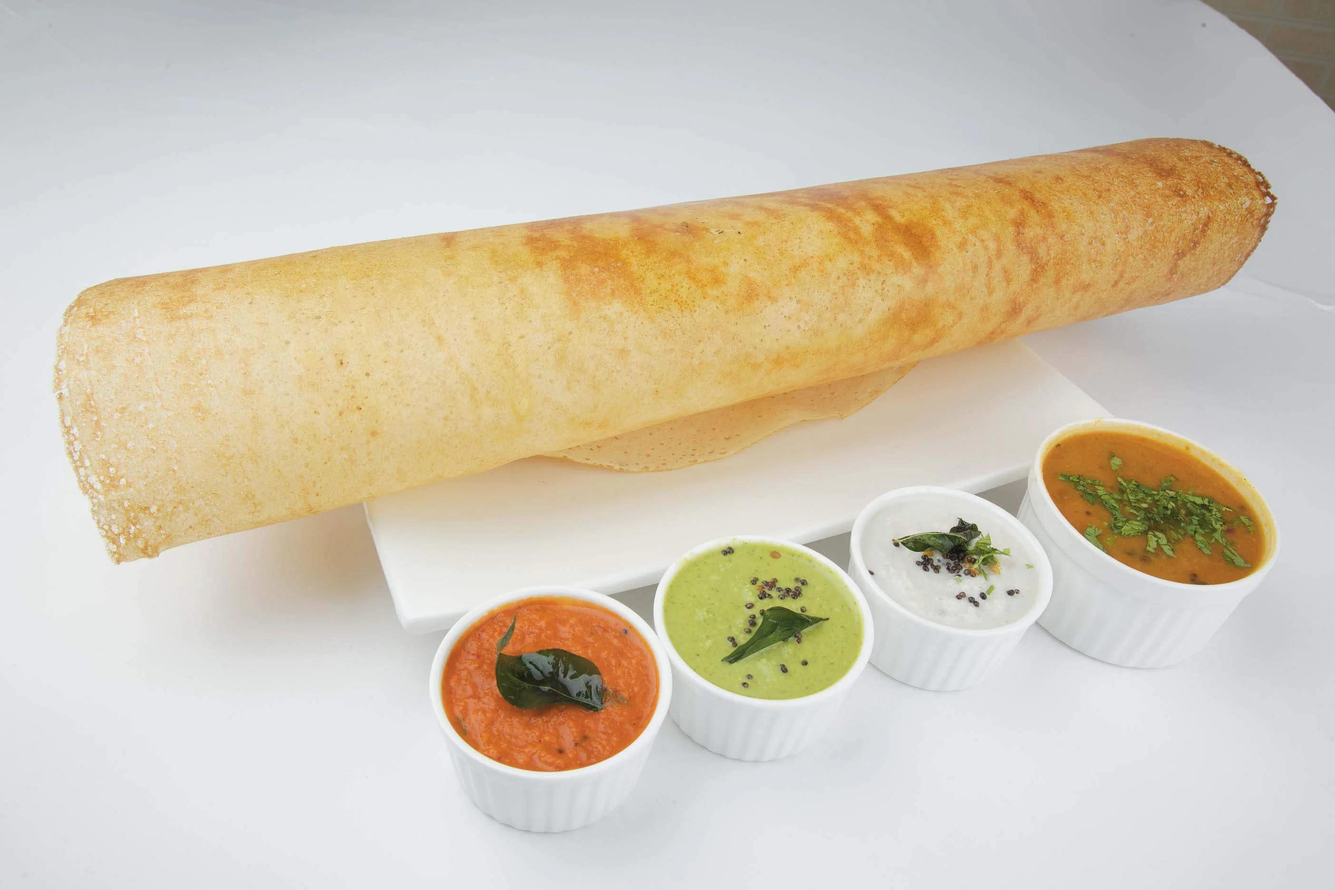CoconutChutney: (862, 499, 1037, 629)
Dosa: (53, 137, 1276, 561)
GreenChutney: (667, 549, 858, 695)
